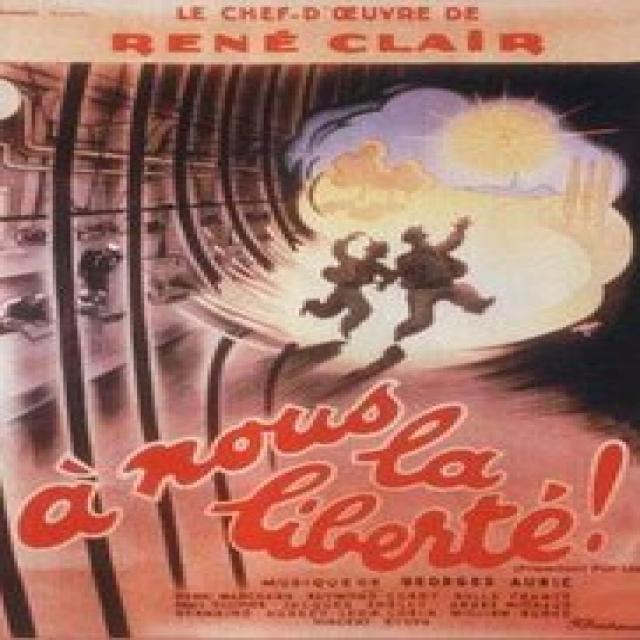movie-judul: (0, 379, 640, 574)
picture: (0, 57, 640, 344)
